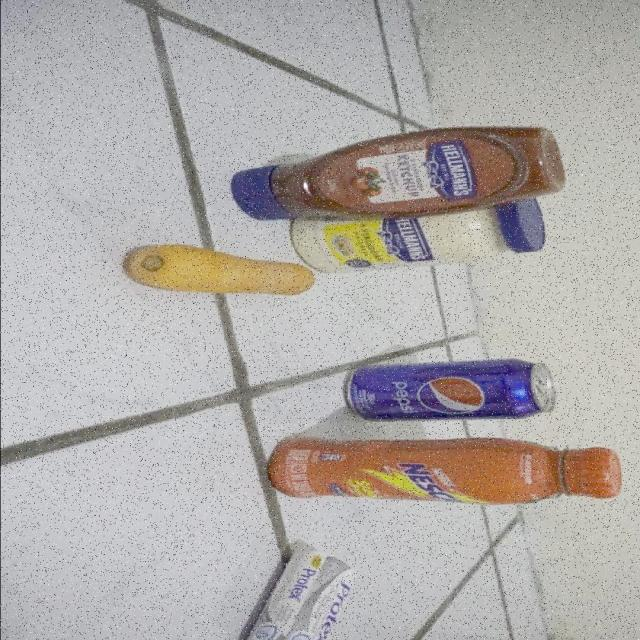Carrot: (130, 248, 313, 294)
ChocolateMilk: (266, 435, 620, 504)
Ketchup: (240, 125, 560, 222)
Mayonnaise: (289, 202, 546, 272)
Soap: (245, 551, 354, 640)
SodaCan: (351, 359, 554, 424)
